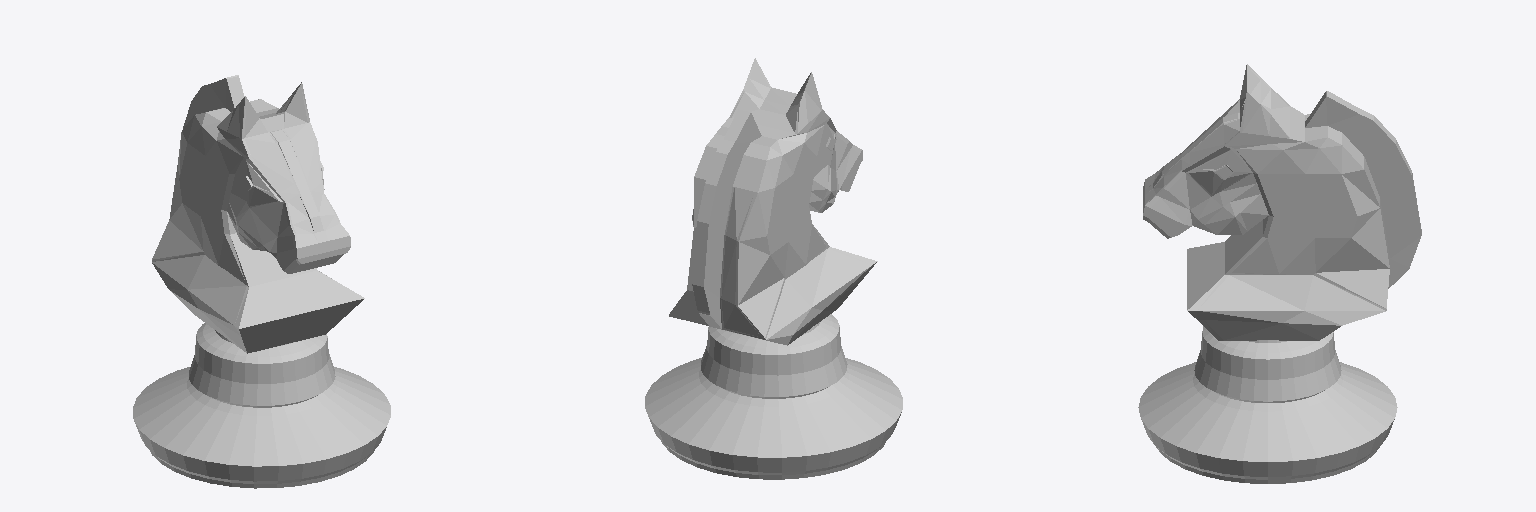
File: cavallo.obj
3 views of the same model, side by side, from view 1: azimuth 30°, elevation 25°; view 2: azimuth 150°, elevation 25°; view 3: azimuth 270°, elevation 25° (orthographic).
Visible parts, largest first — view 1: Cube.002; view 2: Cube.002; view 3: Cube.002.
Boxes of the visible parts, x1=… form: Cube.002: x1=133, y1=75, x2=390, y2=488; Cube.002: x1=645, y1=58, x2=902, y2=479; Cube.002: x1=1138, y1=64, x2=1421, y2=483.
Size of the model in its own units: 1.42 by 2.16 by 1.55.